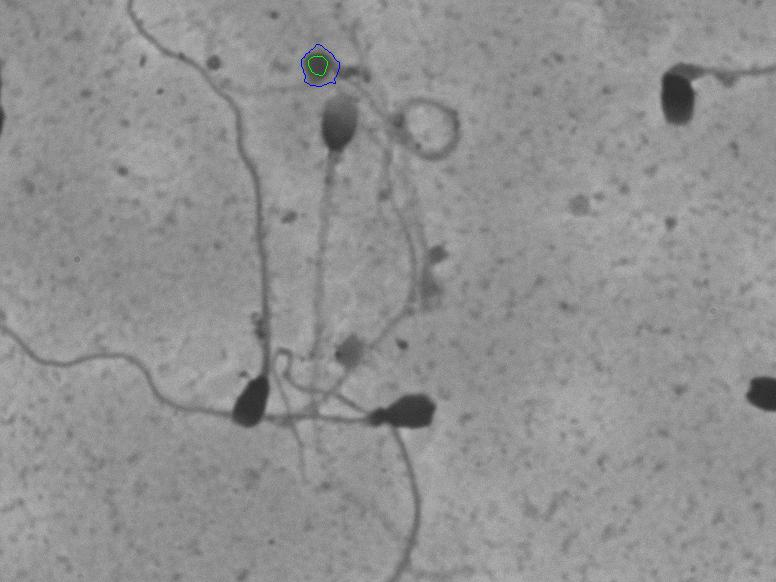Abnormal: (189, 52, 278, 444), (613, 25, 765, 150), (301, 358, 449, 443)
Normal: (298, 82, 366, 329)
